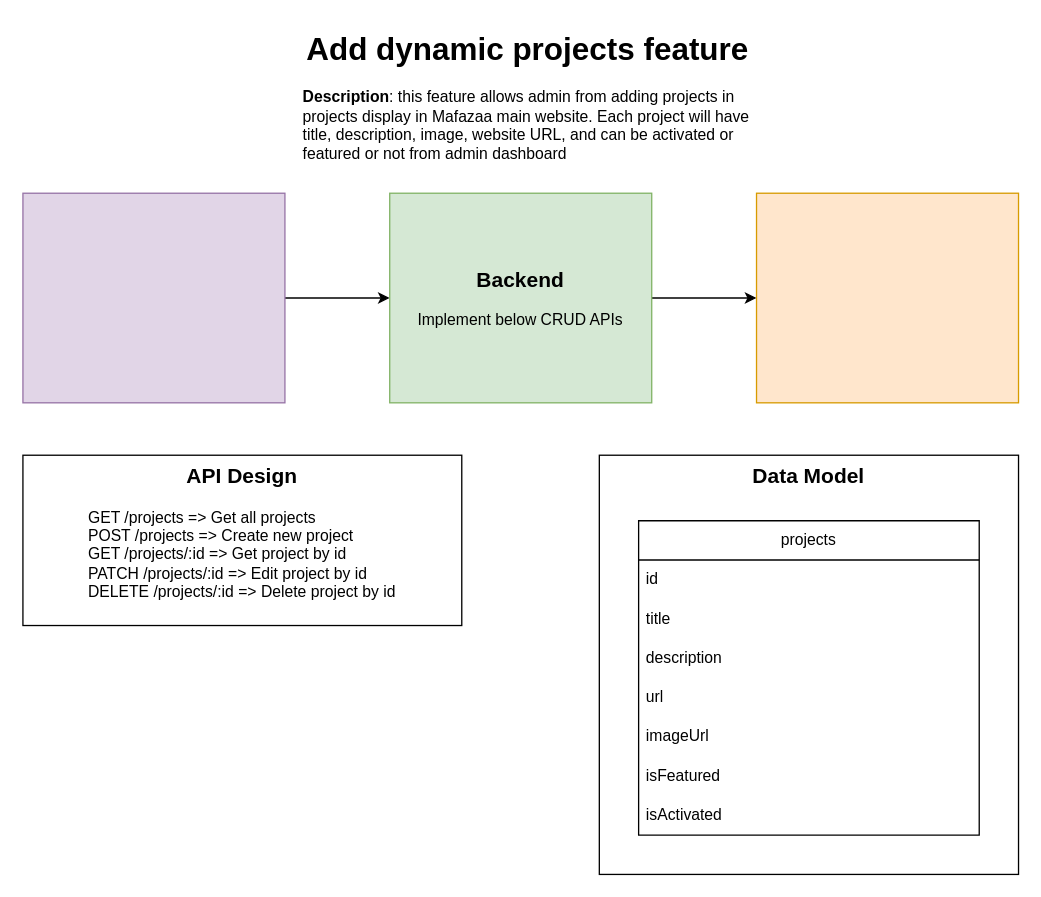
This 1041x897 diagram has some shape labels left out. The shapes that lost their labels are listed below. From the top down, each one's centre as x and y in pixels, then its label:
At (153,297): "Frontend".
At (887,297): "Database Make table with below data model".
